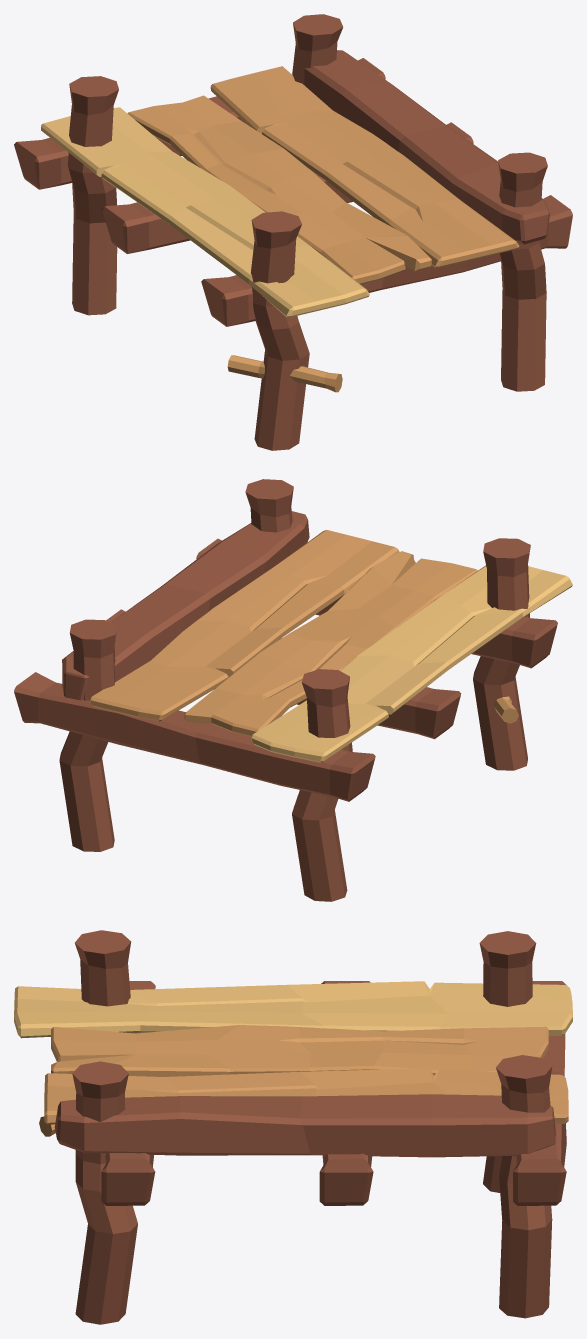
File: wooden plank.fbx
3 views of the same model, one above another, from view 1: azimuth 30°, elevation 25°; view 2: azimuth 150°, elevation 25°; view 3: azimuth 270°, elevation 25° (orthographic). The views are drawn at different scales.
Parts seen in each view (by area): view 1: Cube.002; view 2: Cube.002; view 3: Cube.002.
Boxes of the visible parts, x1,y1,x2,y2 form: Cube.002: (14, 14, 572, 450); Cube.002: (14, 479, 572, 901); Cube.002: (14, 930, 572, 1324).
Bounding box in the file's own units: 309 × 185 × 388.
